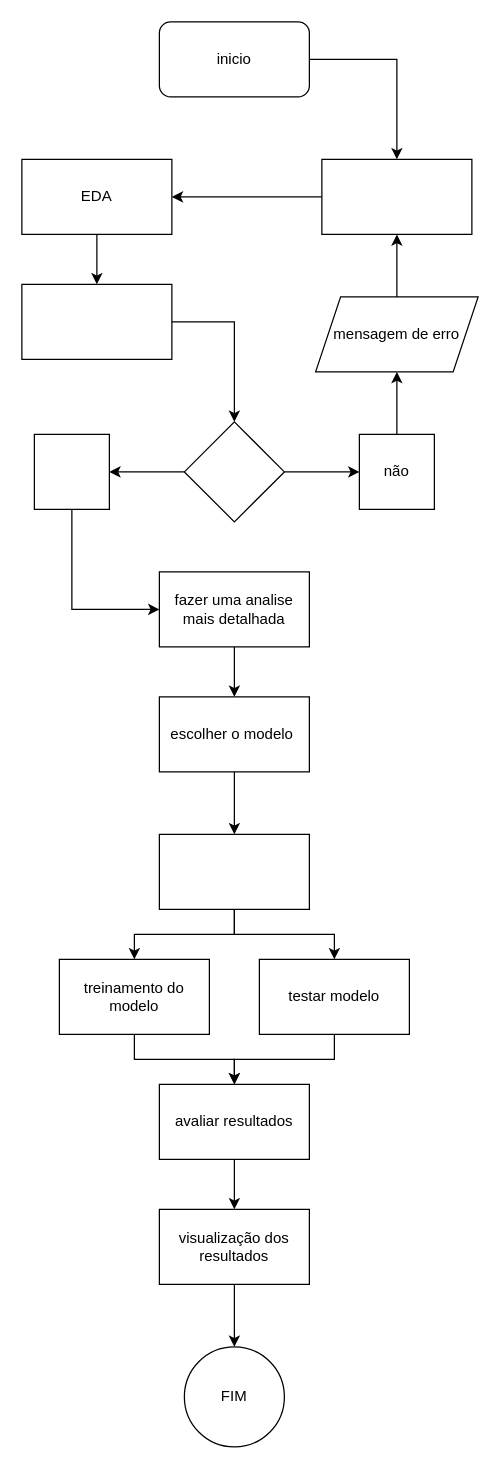
This 500x1469 diagram has some shape labels left out. Each missing label, with the centre of its shape:
"a base é boa?" goes at pixel 233 471.
"analise exploratória" goes at pixel 96 321.
"escolher base de dados" goes at pixel 396 196.
"fazer um modelo para a base" goes at pixel 233 871.
"sim" goes at pixel 71 471.
